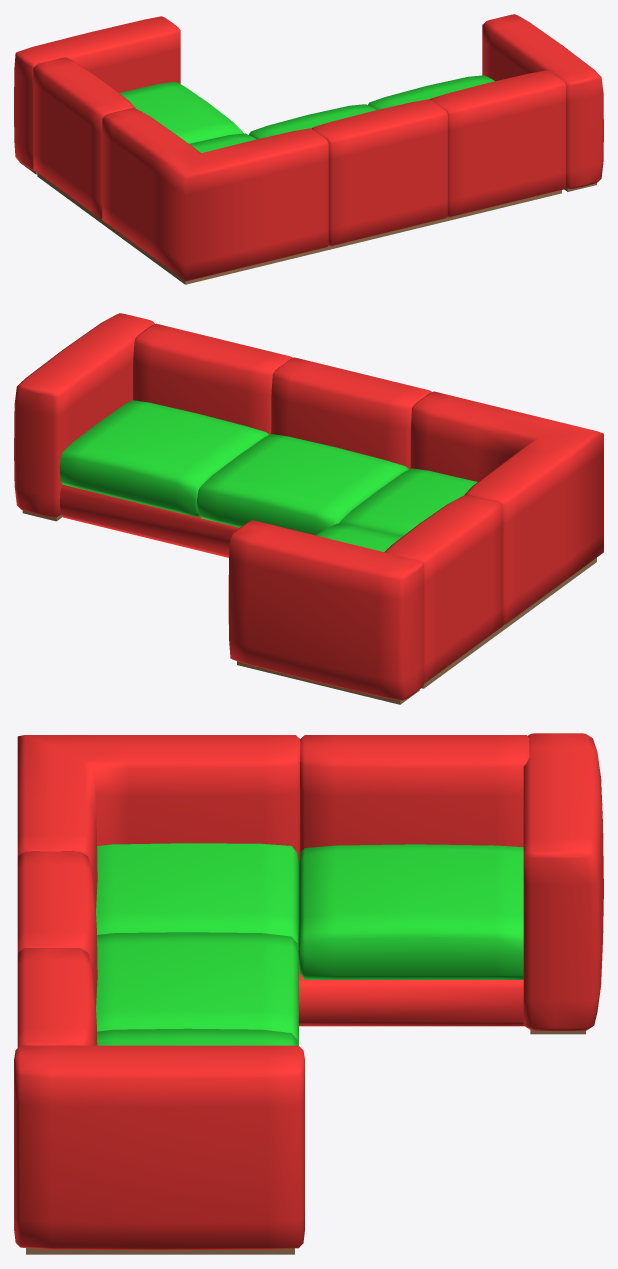
File: corner_sofa.FBX
3 views of the same model, one above another, from view 1: azimuth 30°, elevation 25°; view 2: azimuth 150°, elevation 25°; view 3: azimuth 270°, elevation 25° (orthographic). The views are drawn at different scales.
Parts seen in each view (by area): view 1: corner_sofa; view 2: corner_sofa; view 3: corner_sofa.
Part boxes in pixels (<box>): corner_sofa: <box>14,14,603,284</box>; corner_sofa: <box>14,313,603,704</box>; corner_sofa: <box>14,733,603,1254</box>.
Size of the model in its own units: 2.66 by 0.6659 by 1.92.
